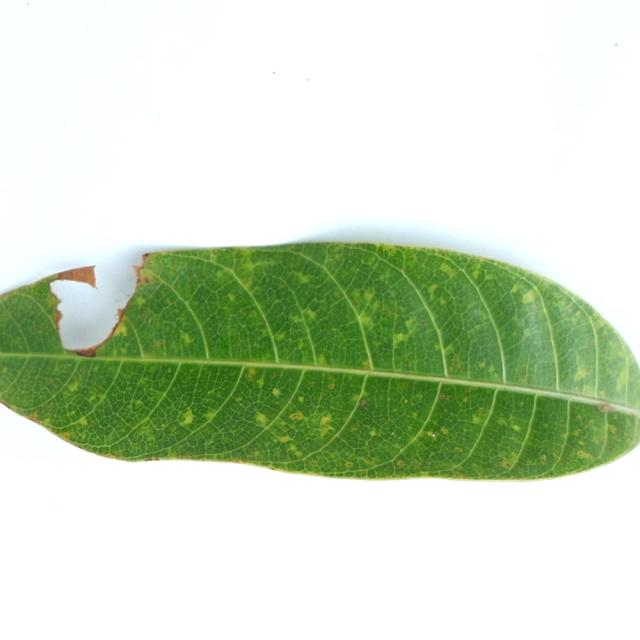Mango: (0, 243, 639, 479)
Powdery_Mildew: (613, 362, 629, 395), (376, 246, 407, 262), (500, 452, 519, 467), (357, 314, 374, 330), (573, 366, 590, 382), (393, 330, 409, 346), (179, 409, 195, 425), (520, 290, 537, 304), (441, 263, 458, 277), (254, 412, 268, 426), (404, 317, 418, 331), (203, 409, 218, 422), (319, 424, 334, 437), (180, 332, 193, 345), (361, 290, 374, 303), (469, 267, 482, 280), (114, 323, 127, 336), (302, 308, 316, 320), (441, 344, 455, 356), (576, 450, 592, 460), (319, 415, 333, 426), (427, 284, 439, 296), (298, 273, 311, 284), (316, 353, 327, 366), (510, 284, 523, 295), (67, 381, 79, 392), (47, 296, 58, 308), (141, 423, 152, 434), (273, 332, 285, 342), (471, 415, 483, 425), (277, 435, 292, 443), (592, 319, 604, 329), (294, 412, 307, 421), (77, 416, 88, 426), (522, 327, 533, 337), (370, 301, 380, 312), (348, 424, 360, 433), (368, 427, 378, 437), (296, 340, 306, 350), (352, 393, 362, 403), (607, 424, 617, 434), (228, 328, 238, 338), (287, 444, 298, 453), (29, 412, 40, 421), (246, 368, 256, 377), (153, 340, 163, 349), (501, 460, 512, 468), (272, 388, 281, 397), (227, 292, 236, 301), (255, 377, 264, 386), (487, 365, 496, 374), (362, 359, 371, 368), (452, 357, 461, 366), (511, 424, 521, 432), (61, 431, 71, 439), (260, 328, 269, 336), (606, 366, 614, 375), (416, 393, 424, 402), (133, 399, 143, 406), (441, 427, 449, 435), (1, 366, 9, 374), (598, 390, 606, 398), (539, 456, 547, 464), (572, 429, 581, 436), (386, 246, 395, 253), (396, 460, 405, 467), (438, 298, 446, 305), (295, 450, 303, 457), (354, 422, 361, 430), (327, 383, 335, 390), (206, 438, 214, 445), (478, 361, 485, 368), (411, 412, 418, 419), (462, 395, 469, 402), (403, 361, 410, 368), (578, 440, 586, 446), (454, 447, 462, 453), (345, 462, 353, 468), (236, 396, 243, 402), (160, 377, 167, 383), (252, 450, 259, 456), (298, 396, 304, 402), (420, 320, 426, 326), (402, 399, 408, 404), (639, 188, 640, 193)
